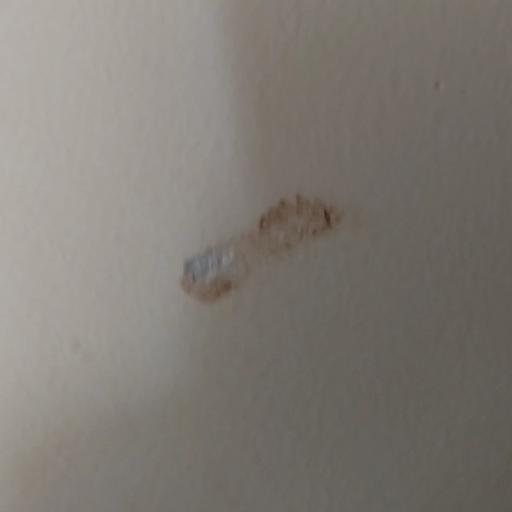stain: (174, 180, 351, 317)
